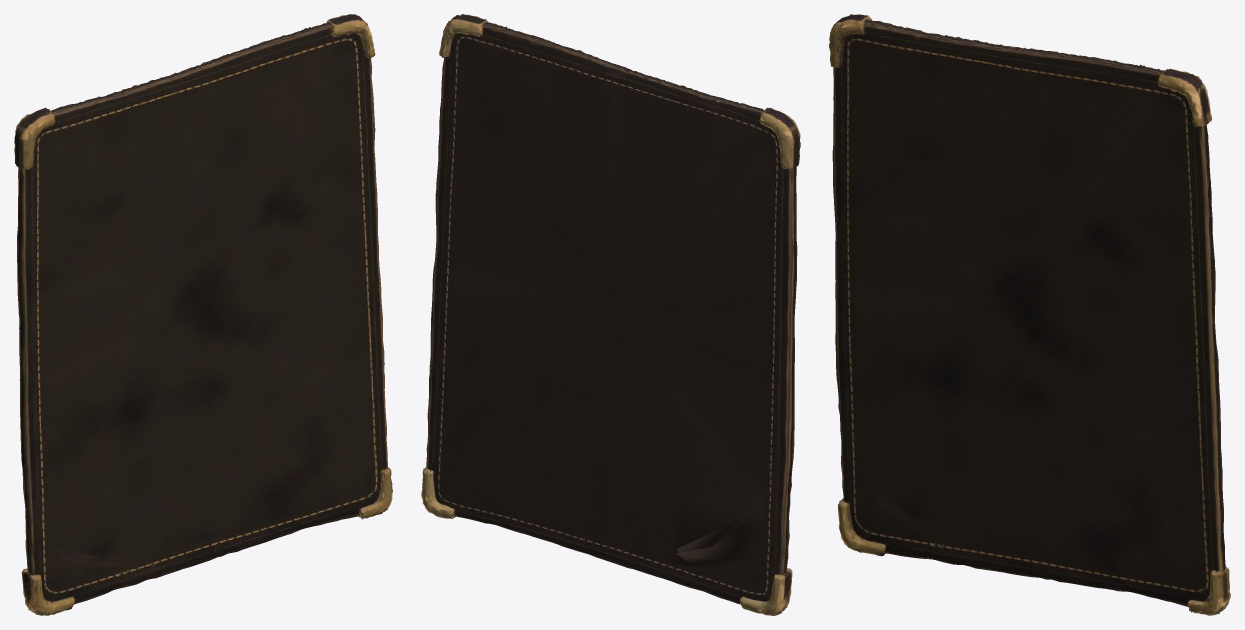
Rendered from executive-meshy-front-cover.glb.
3 renders of one model, left to right at view 1: azimuth 30°, elevation 25°; view 2: azimuth 150°, elevation 25°; view 3: azimuth 330°, elevation 25°, orthographic. The views are drawn at different scales.
Visible parts, largest first — view 1: Mesh_0; view 2: Mesh_0; view 3: Mesh_0.
Boxes of the visible parts, x1,y1,x2,y2 form: Mesh_0: (14, 14, 392, 615); Mesh_0: (421, 14, 800, 615); Mesh_0: (829, 14, 1230, 615).
Size of the model in its own units: 0.2181 by 0.29 by 0.014.
1 material, 1 textured.
